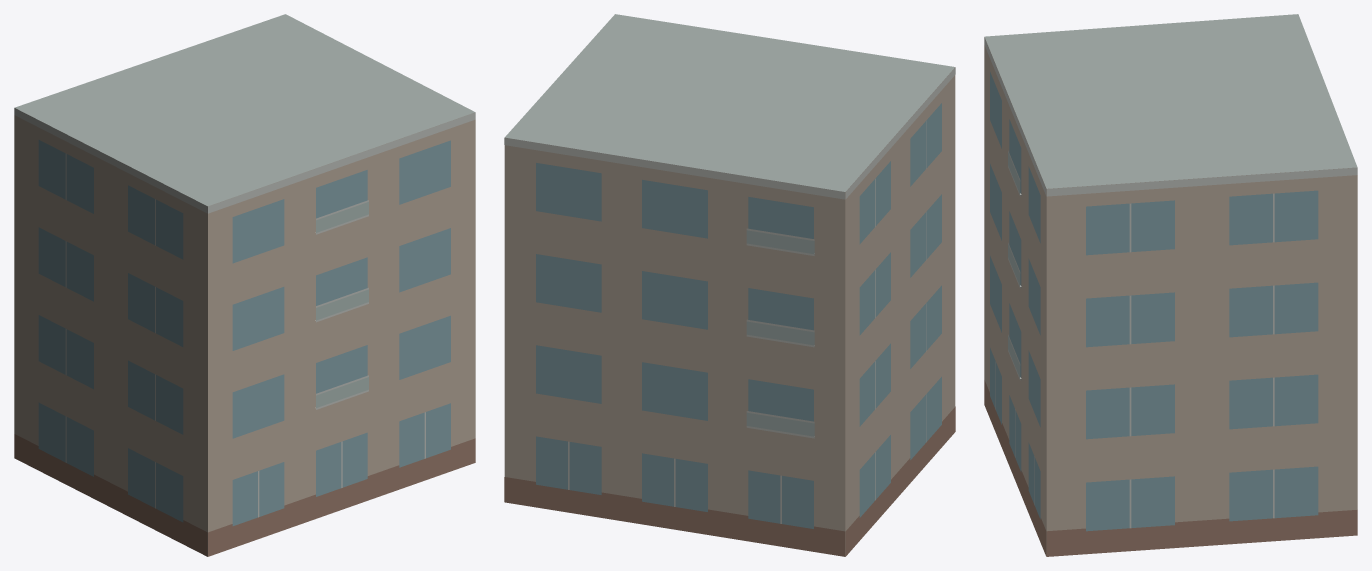
The model's file is survey-upis-32707101.glb.
3 views of the same model, side by side, from view 1: azimuth 30°, elevation 25°; view 2: azimuth 150°, elevation 25°; view 3: azimuth 270°, elevation 25° (orthographic). The views are drawn at different scales.
Visible parts, largest first — view 1: survey-upis-32707101.tmp; view 2: survey-upis-32707101.tmp; view 3: survey-upis-32707101.tmp.
Part boxes in pixels (x1,y1,x2,y2): survey-upis-32707101.tmp: [14, 14, 475, 556]; survey-upis-32707101.tmp: [504, 14, 955, 556]; survey-upis-32707101.tmp: [984, 14, 1357, 556].
Size of the model in its own units: 11.93 by 11.7 by 10.77.
